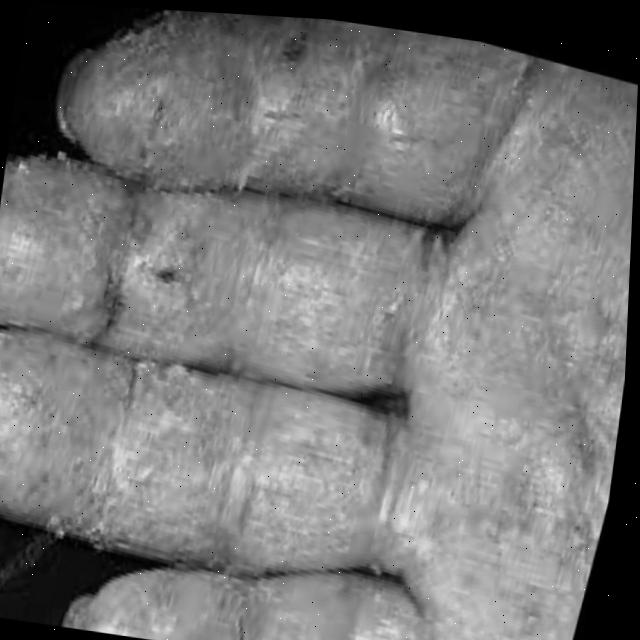Eczema: (5, 8, 640, 603)
